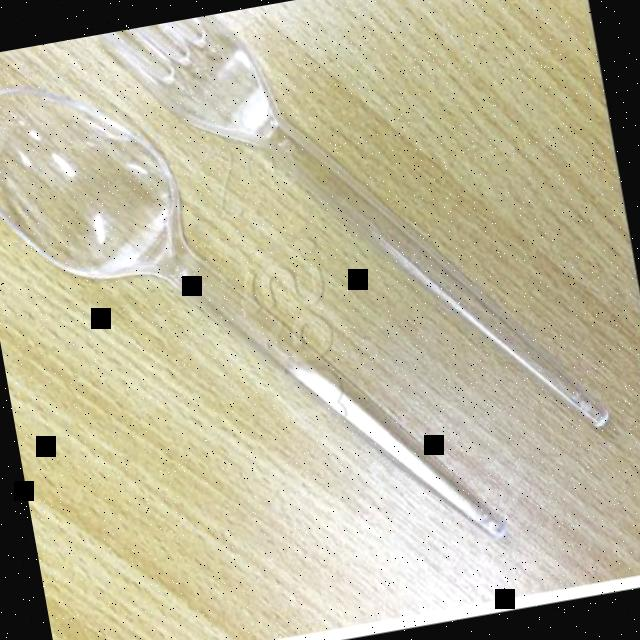plastic_box: (0, 0, 631, 619)
